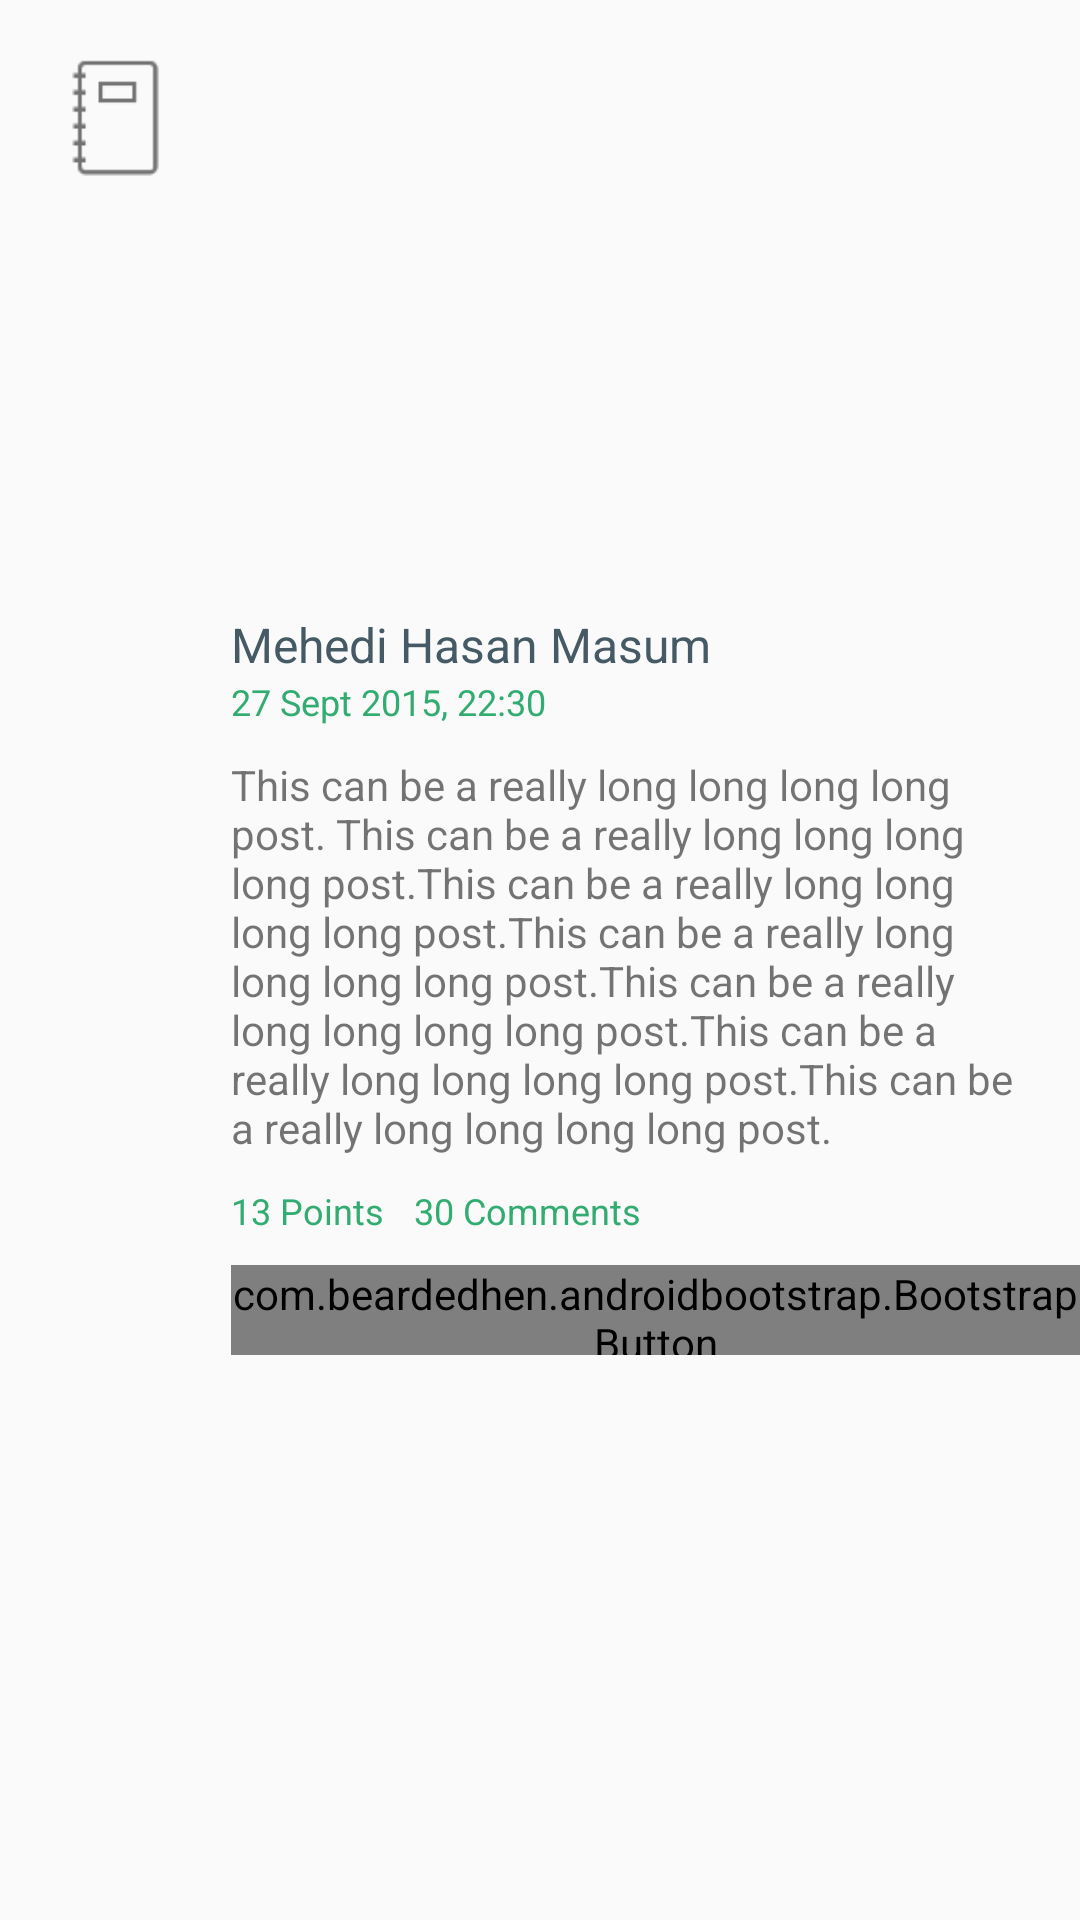

Icons on this 1080px x 1920px Android screen, each with the point to tap as (x=x, y=y):
notebook: (x=115, y=118)
